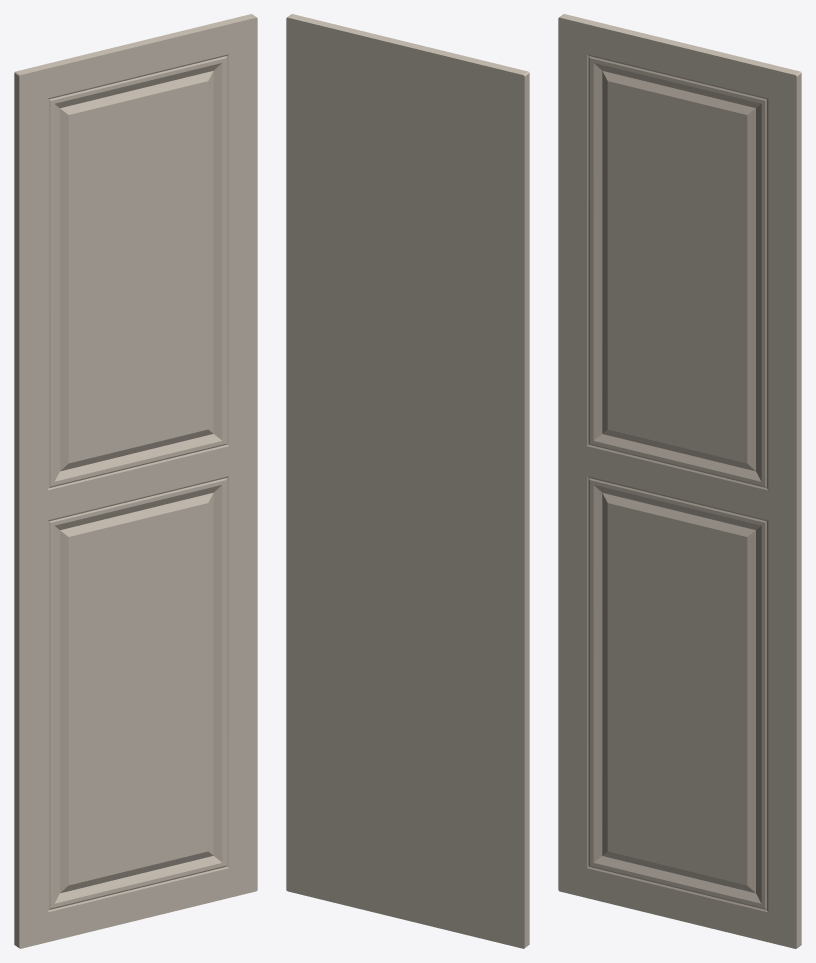
The model's file is NRD BOY KPK 02.glb.
The picture shows the model from 3 angles, left to right: view 1: azimuth 30°, elevation 25°; view 2: azimuth 150°, elevation 25°; view 3: azimuth 330°, elevation 25°; orthographic projection.
Visible parts, largest first — view 1: NRD BOY KPK 02; view 2: NRD BOY KPK 02; view 3: NRD BOY KPK 02.
Part boxes in pixels (left/top/right/bottom): NRD BOY KPK 02: left=14, top=14, right=257, bottom=948; NRD BOY KPK 02: left=286, top=14, right=529, bottom=948; NRD BOY KPK 02: left=558, top=14, right=801, bottom=948.
Bounding box in the file's own units: 0.4999 × 1.75 × 0.018.
